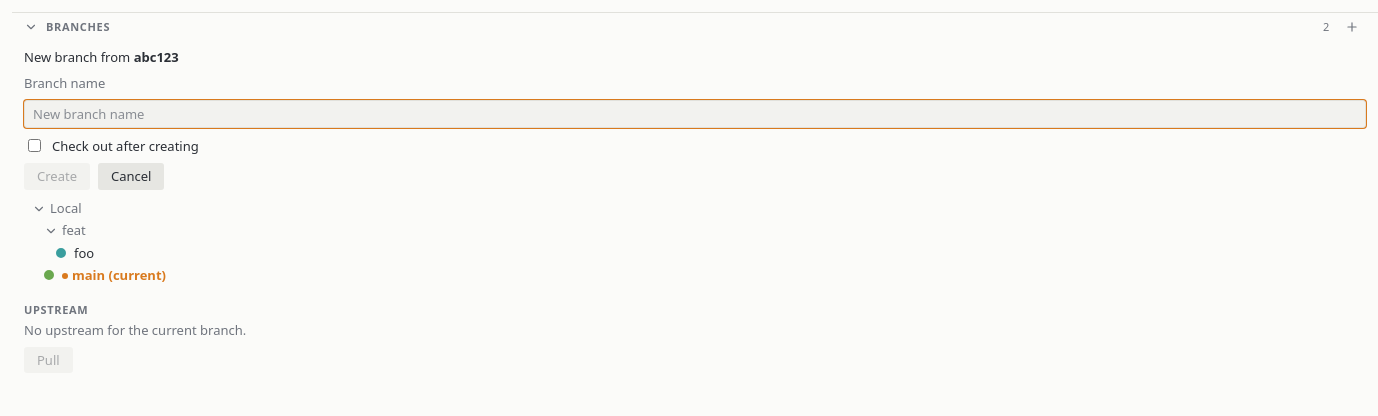
Test: BranchTree — local branches › dismissing the create-branch failure message clears it
The image size is (1378, 416).
Type "feature" into the field with placeholder "New branch name".
click(695, 114); type("feature")  # box x1=24 y1=100 x2=1366 y2=128
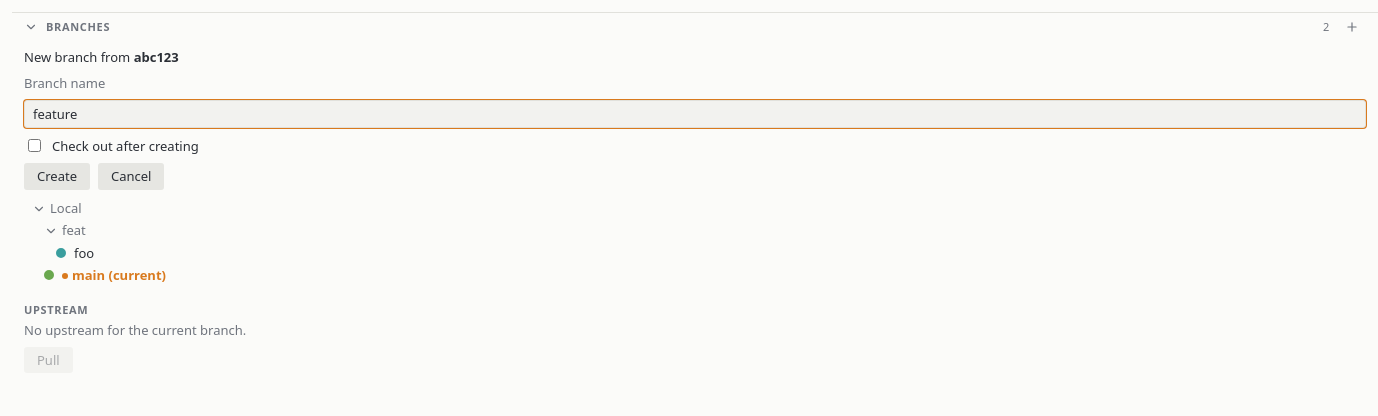
Click the button "Create".
click(57, 176)  # box x1=24 y1=163 x2=90 y2=190
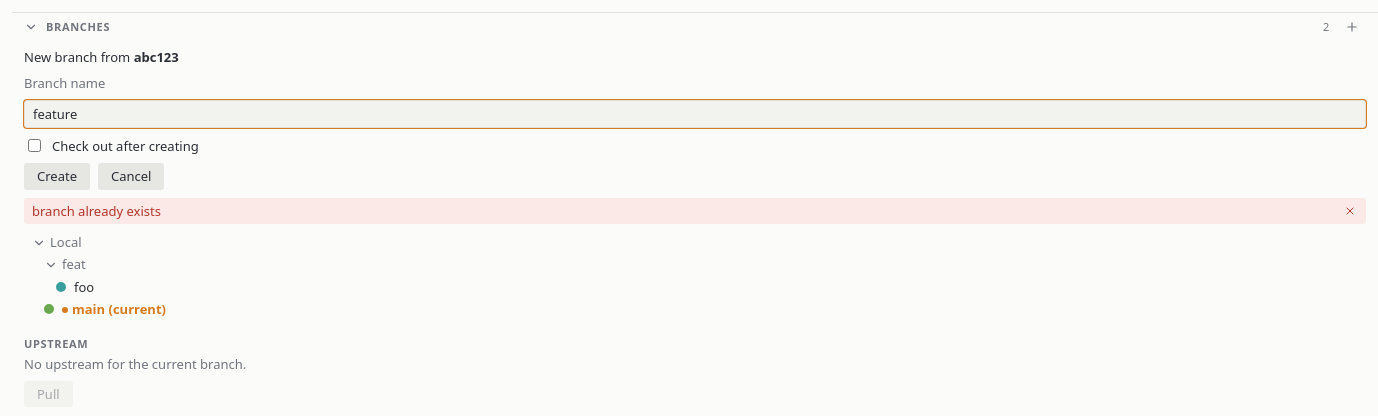
Result: the message "branch already exists" is shown at x1=24 y1=198 x2=1366 y2=224
Click the button named "Dismiss error".
click(1350, 211)  # box x1=1342 y1=203 x2=1358 y2=219
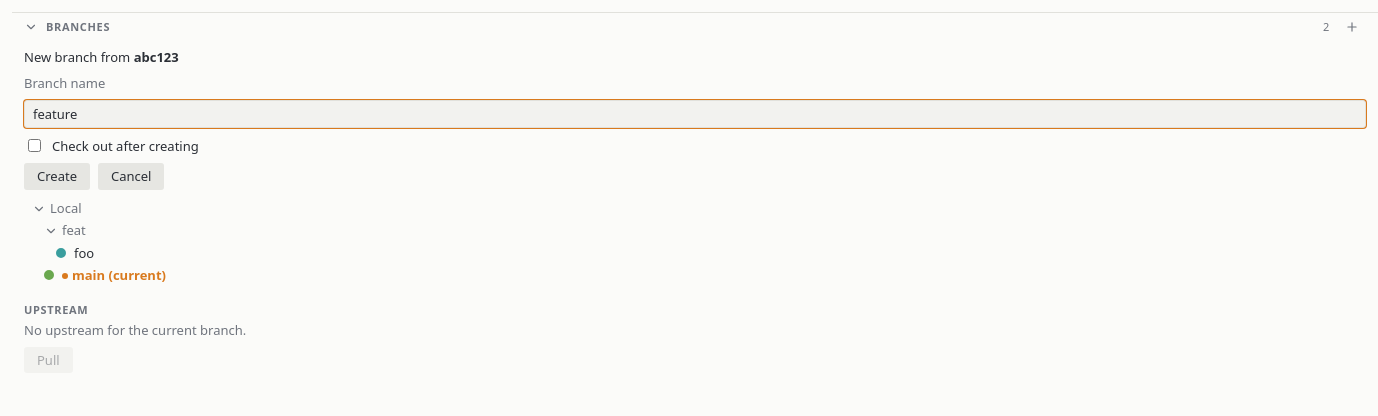
Result: the message "branch already exists" is gone
